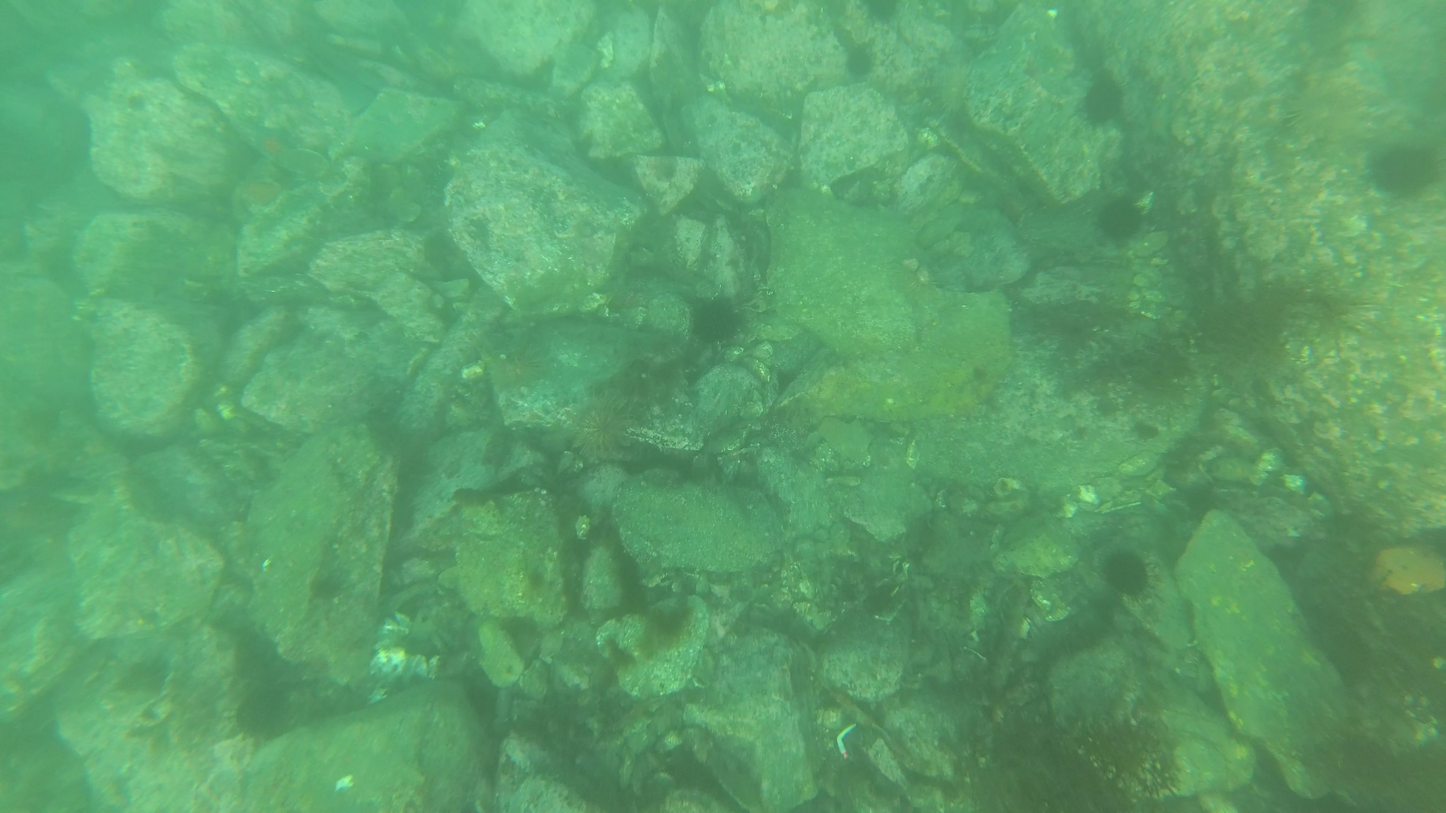starfish: (1365, 138, 1446, 199), (679, 286, 751, 349), (1099, 546, 1161, 604), (1091, 190, 1153, 246), (1080, 76, 1133, 134)
